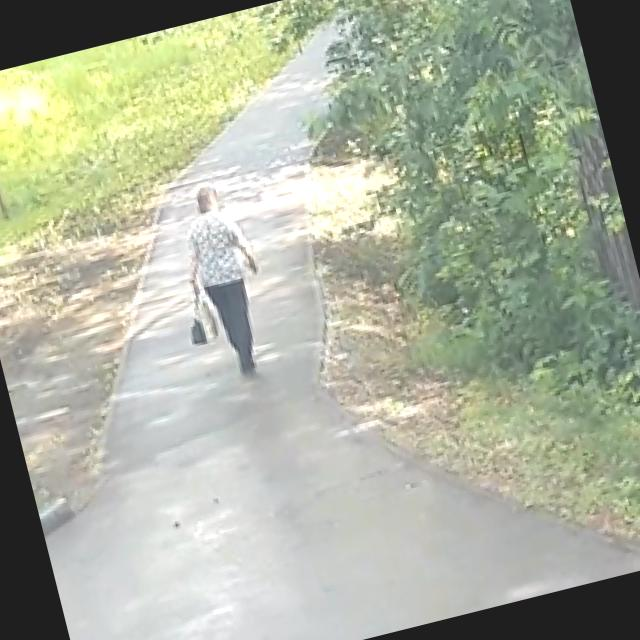person: (162, 173, 288, 386)
